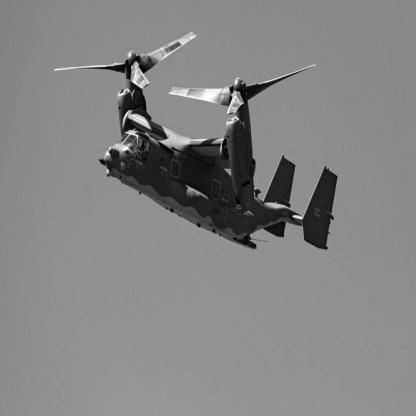V22: (55, 32, 340, 251)
